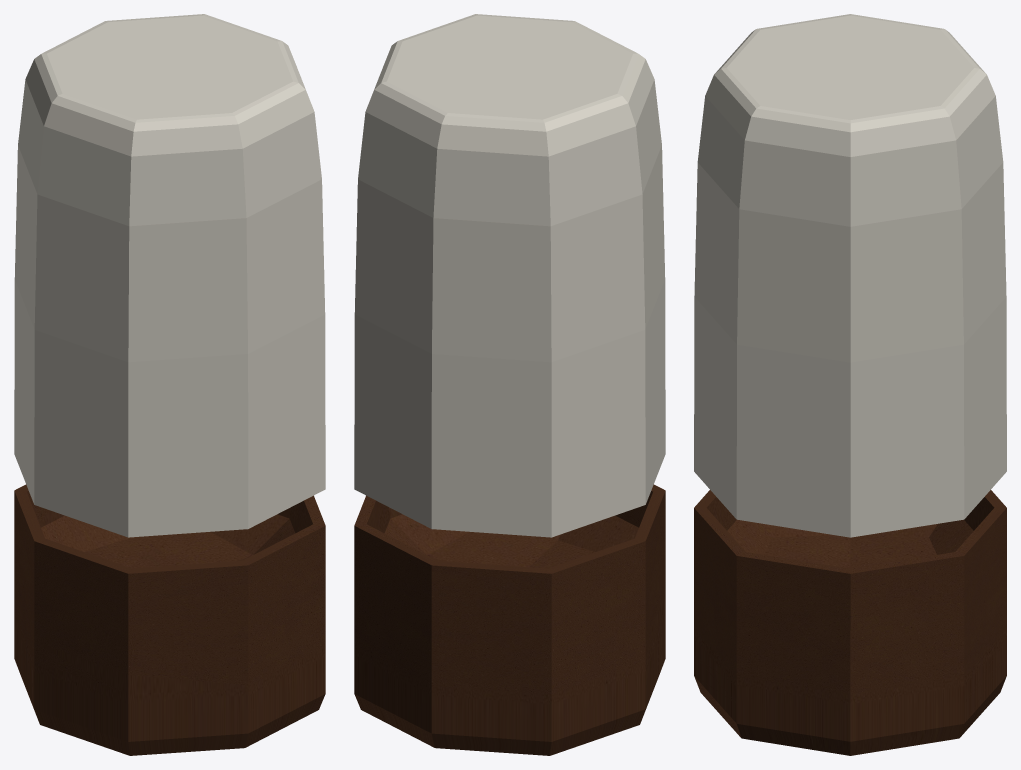
Rendered from Capsule_to_Hold_Plant.fbx.
3 renders of one model, left to right at view 1: azimuth 30°, elevation 25°; view 2: azimuth 150°, elevation 25°; view 3: azimuth 270°, elevation 25°, orthographic.
Parts seen in each view (by area): view 1: Top, bottom; view 2: Top, bottom; view 3: Top, bottom.
Boxes of the visible parts, x1,y1,x2,y2 form: Top: (14, 14, 325, 537); bottom: (14, 484, 325, 755); Top: (354, 14, 665, 537); bottom: (354, 484, 665, 755); Top: (694, 14, 1006, 537); bottom: (694, 490, 1006, 755).
Bounding box in the file's own units: 378 × 852 × 378.
2 materials, 1 textured.
